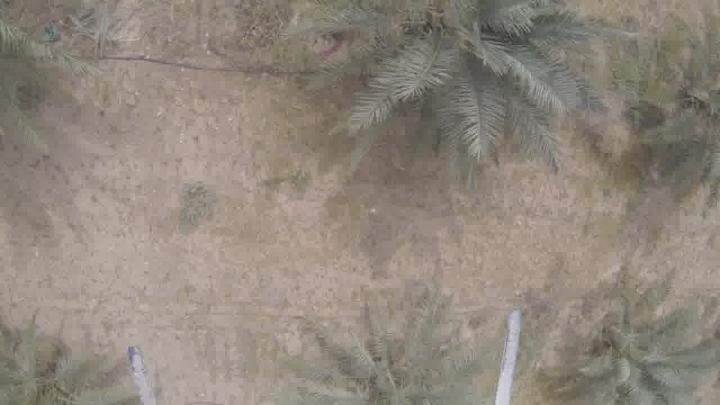Date-Palm-Crown: (344, 1, 562, 136), (312, 321, 472, 405), (575, 296, 695, 404), (652, 37, 720, 181), (0, 1, 74, 105), (0, 332, 102, 404)
